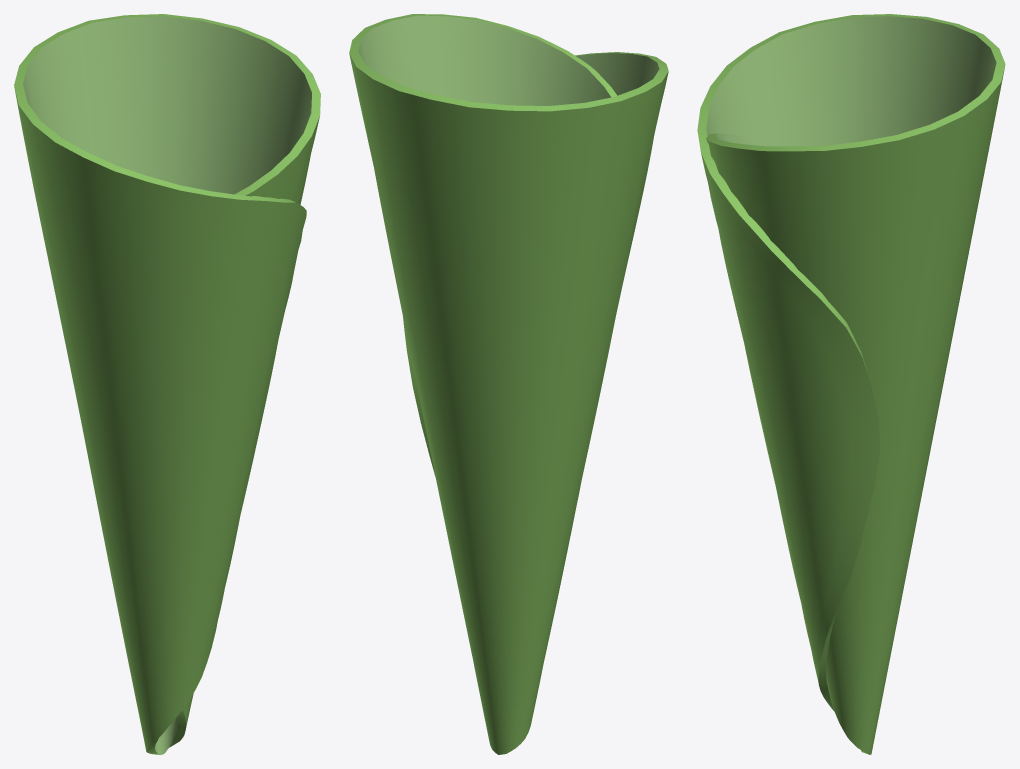
File: Cone Ice Cream F.fbx
The picture shows the model from 3 angles, left to right: view 1: azimuth 30°, elevation 25°; view 2: azimuth 150°, elevation 25°; view 3: azimuth 270°, elevation 25°; orthographic projection. The views are drawn at different scales.
Parts seen in each view (by area): view 1: Cone Ice Cream F; view 2: Cone Ice Cream F; view 3: Cone Ice Cream F.
Boxes of the visible parts, left/top/right/bottom form: Cone Ice Cream F: left=14, top=14, right=320, bottom=754; Cone Ice Cream F: left=349, top=14, right=668, bottom=754; Cone Ice Cream F: left=697, top=14, right=1005, bottom=754.
Size of the model in its own units: 0.3369 by 0.824 by 0.3332.
